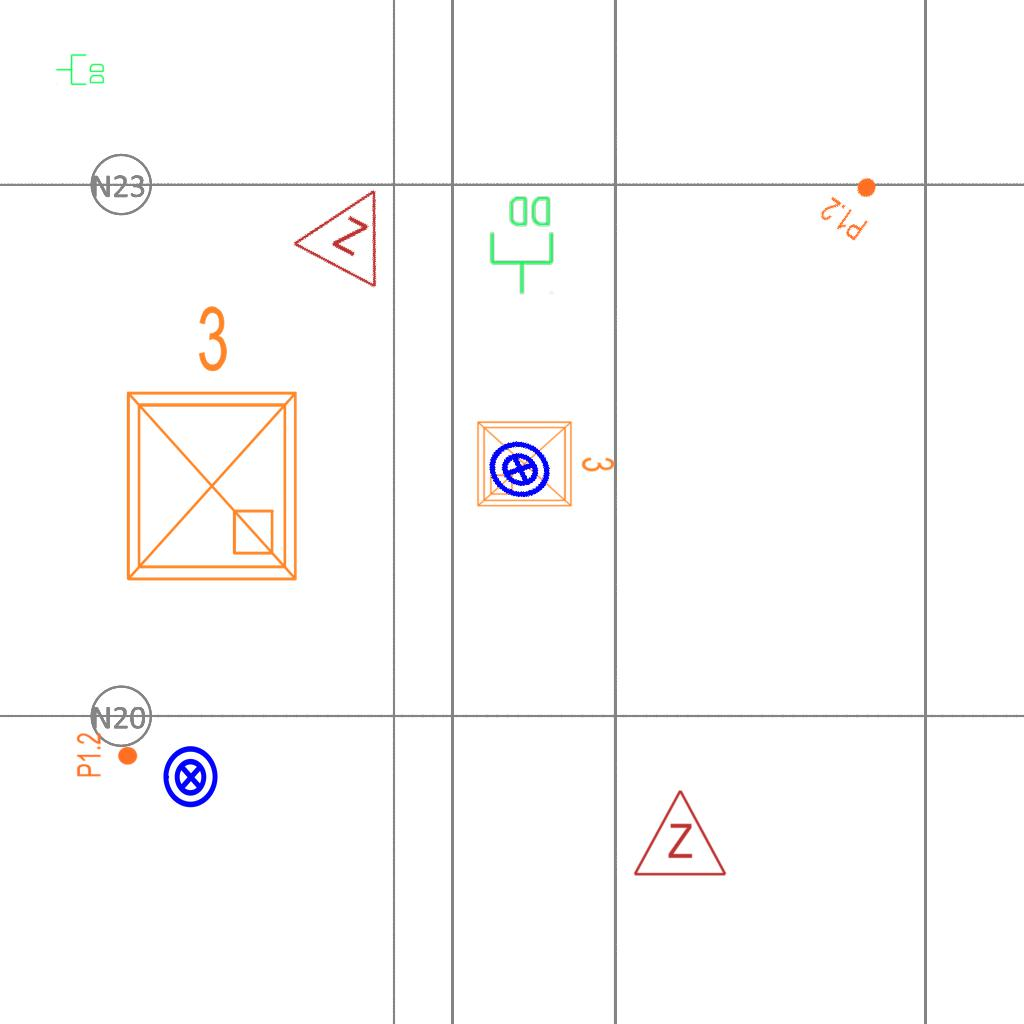Datenanschluss_zweifach: (488, 193, 557, 296), (55, 53, 106, 87)
Downlight_LED_Einbauleuchten_Flur: (816, 164, 892, 244), (75, 732, 139, 778)
Einbaudownlights_LED_Konferenzraeume: (104, 295, 312, 595), (470, 410, 620, 514)
Taster_beleuchtet: (476, 425, 564, 513), (158, 744, 224, 810)
Zimmersignalleuchte: (286, 160, 420, 296), (630, 783, 728, 883)
